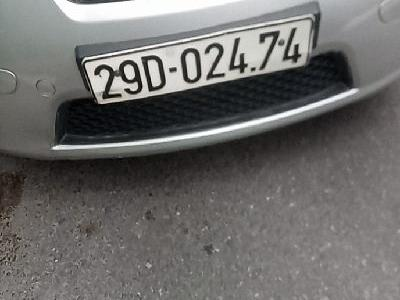lisence: (80, 14, 315, 104)
